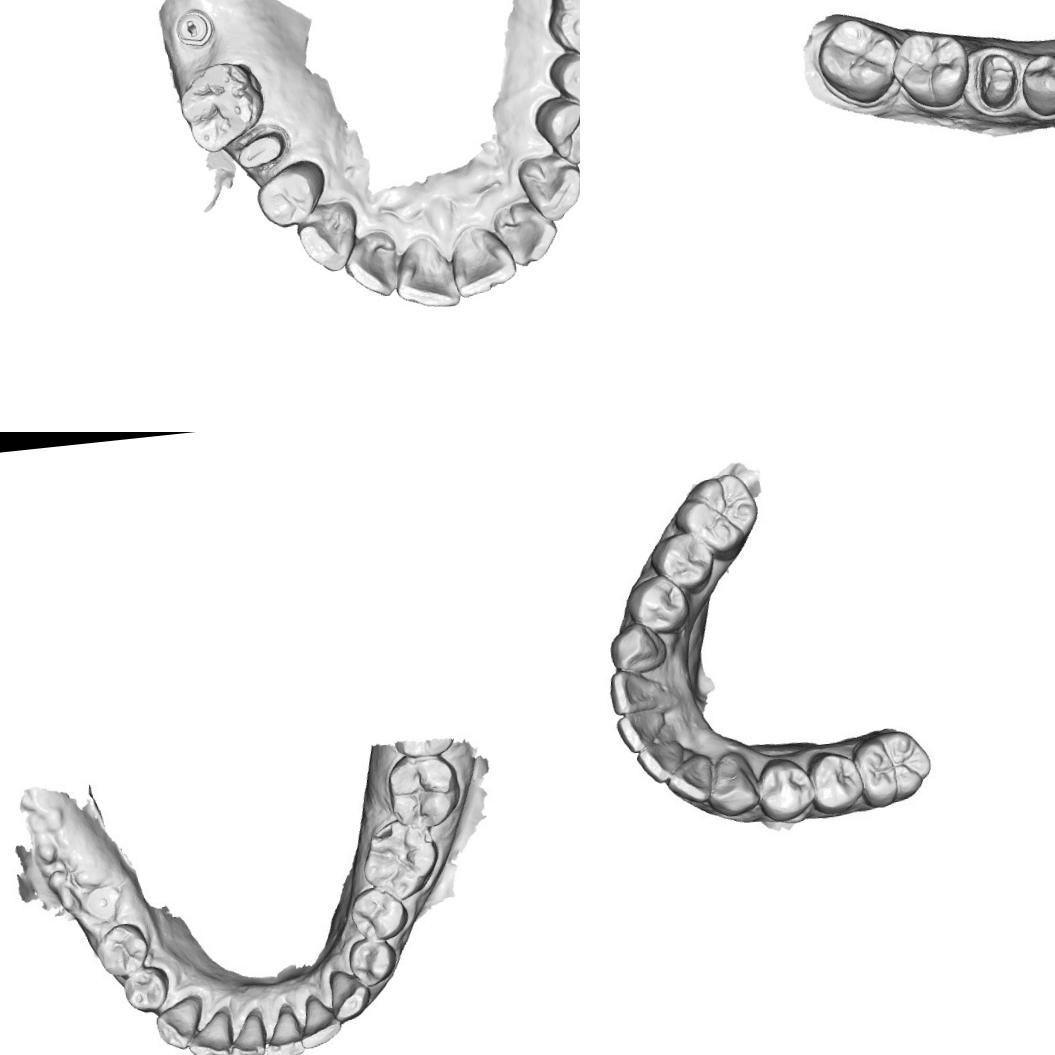canine: (293, 198, 364, 276), (514, 149, 580, 225), (706, 753, 763, 822), (604, 620, 668, 678), (152, 993, 205, 1051), (328, 968, 369, 1021)
crown: (966, 43, 1026, 118), (232, 123, 290, 176)
implant_minus: (170, 4, 219, 52)
incisor: (388, 231, 463, 313), (447, 220, 518, 300), (490, 196, 562, 270), (339, 227, 408, 302), (604, 663, 662, 715), (296, 992, 342, 1049), (611, 708, 668, 754), (259, 1004, 310, 1055), (184, 1004, 234, 1055), (665, 756, 714, 808), (633, 740, 687, 785), (226, 1006, 269, 1055)
molar: (174, 56, 268, 158), (668, 467, 760, 563), (852, 723, 936, 810), (817, 14, 896, 101), (360, 813, 438, 901), (890, 29, 965, 109), (388, 752, 460, 828), (541, 0, 580, 67)
premolar: (251, 155, 332, 232), (646, 530, 716, 595), (622, 572, 690, 638), (754, 756, 816, 824), (530, 91, 580, 172), (809, 749, 866, 818), (346, 884, 410, 943), (92, 921, 153, 978), (344, 934, 402, 986), (116, 965, 172, 1016), (544, 45, 580, 118), (1019, 53, 1055, 118)
